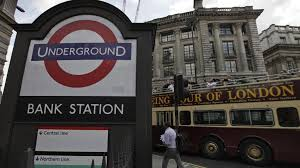London Underground: (30, 21, 132, 87)
